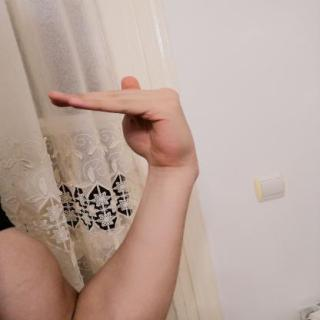KHAA: (37, 70, 209, 176)
